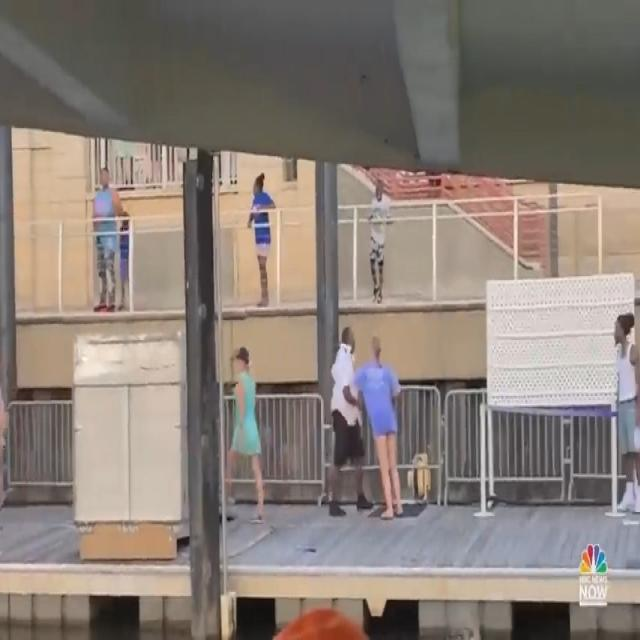non-fight: (328, 314, 410, 527), (224, 336, 272, 524), (607, 312, 640, 524)
